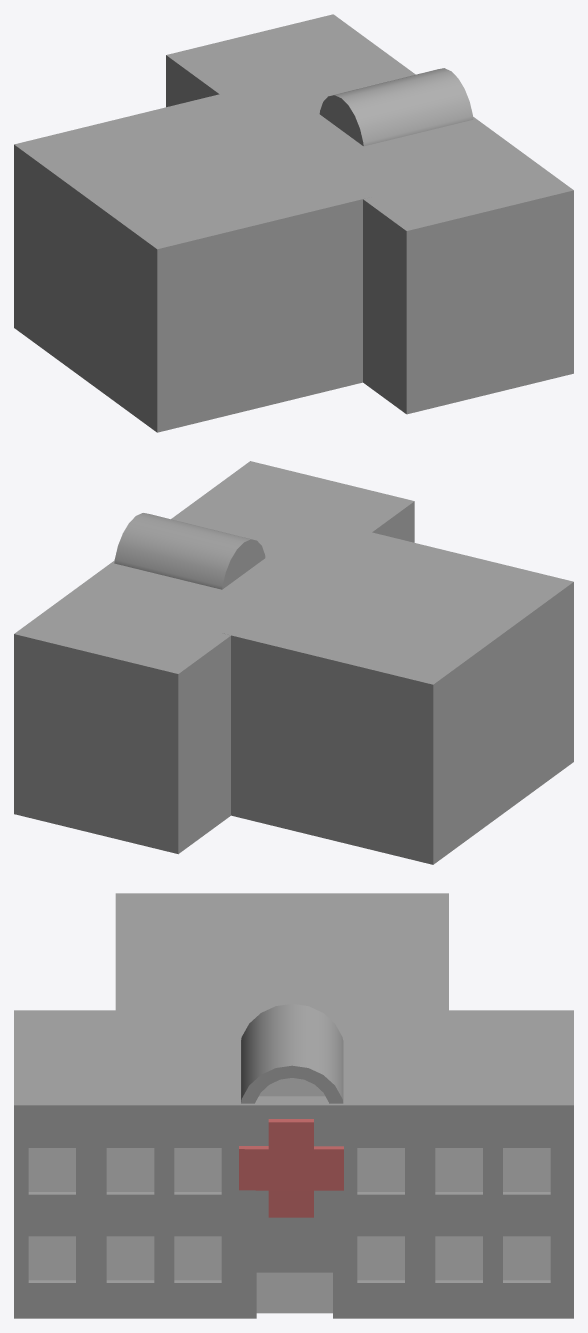
File: SM_B_Hospital.fbx
3 renders of one model, top to bottom at view 1: azimuth 30°, elevation 25°; view 2: azimuth 150°, elevation 25°; view 3: azimuth 270°, elevation 25°, orthographic. The views are drawn at different scales.
Parts seen in each view (by area): view 1: pCube22; view 2: pCube22; view 3: pCube22, pCube9.
Boxes of the visible parts, bbox=[...] form: pCube22: bbox=[14, 14, 573, 432]; pCube22: bbox=[14, 461, 573, 864]; pCube22: bbox=[14, 893, 573, 1318]; pCube9: bbox=[239, 1119, 343, 1217].
Size of the model in its own units: 21.33 by 11.61 by 23.45.
